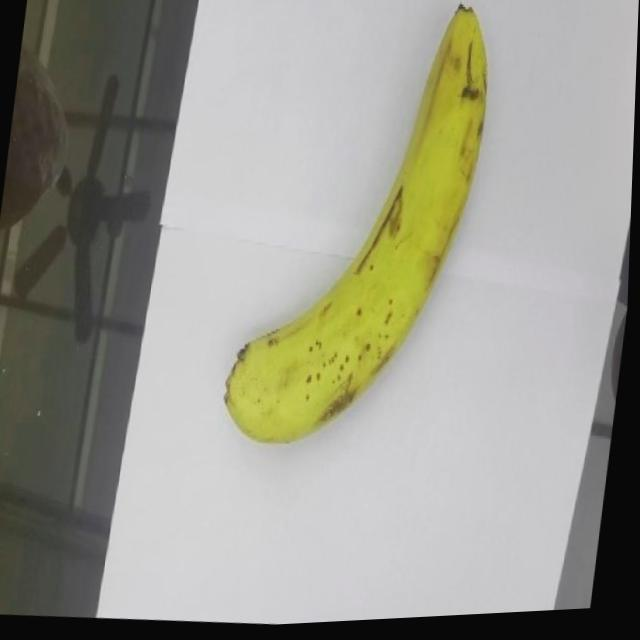Apple: (0, 45, 79, 237)
Banana: (219, 0, 500, 466)
